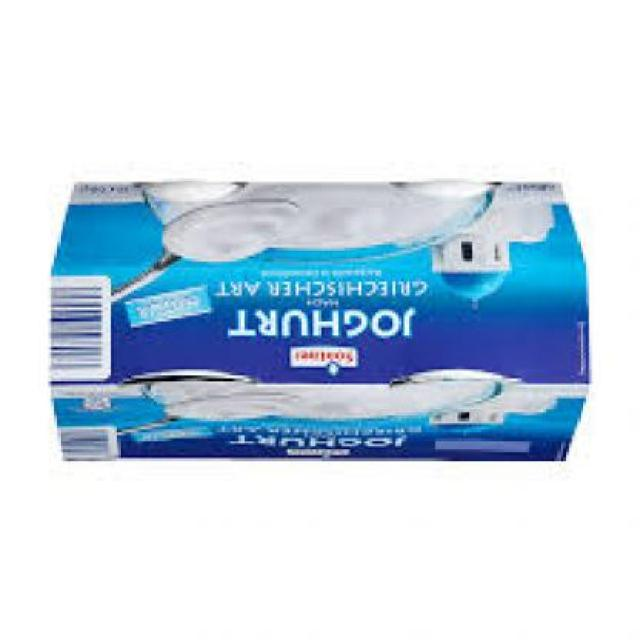CARDBOARD: (51, 187, 592, 464)
